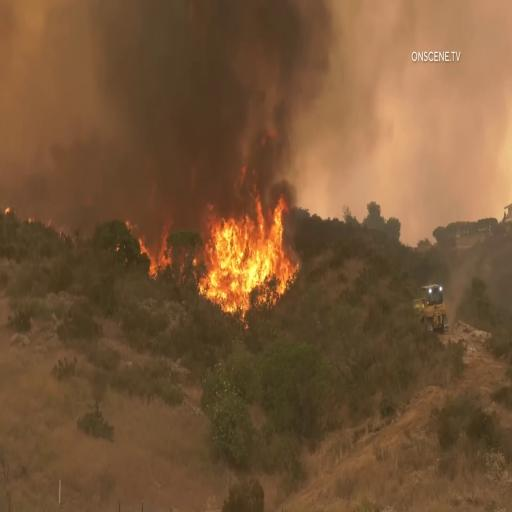fire: (207, 185, 289, 321)
smoke: (158, 38, 304, 169)
